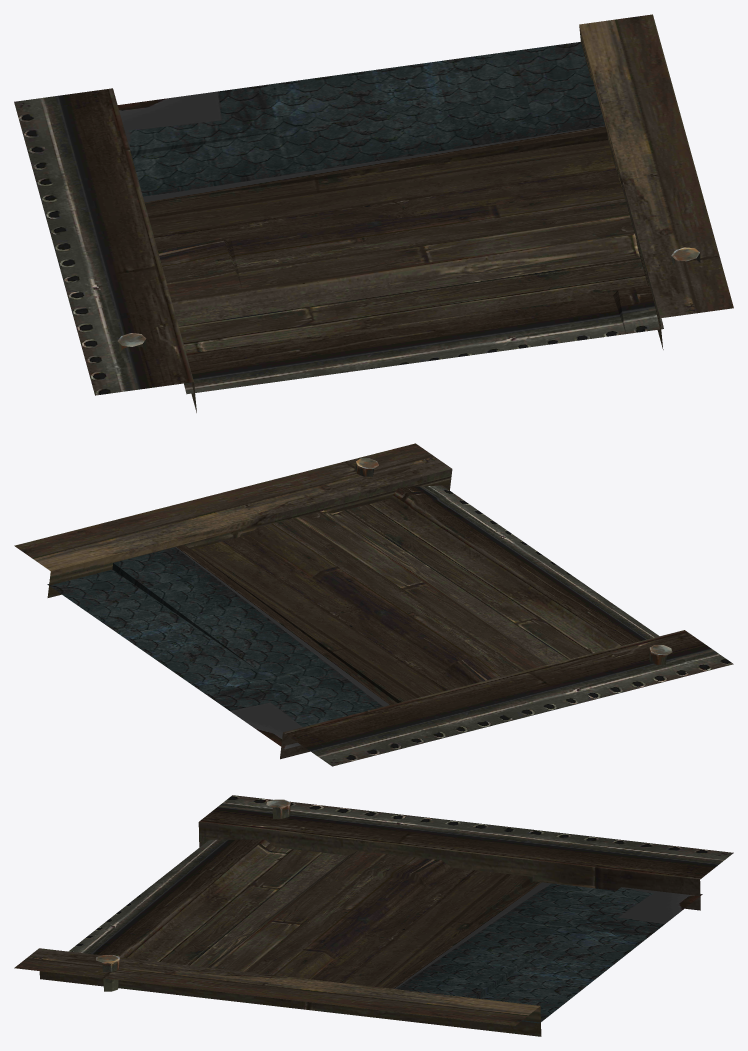
Rendered from T_Ship_09_Box.fbx.
The picture shows the model from 3 angles, top to bottom: view 1: azimuth 30°, elevation 25°; view 2: azimuth 150°, elevation 25°; view 3: azimuth 270°, elevation 25°; orthographic projection. The views are drawn at different scales.
Parts seen in each view (by area): view 1: T_Ship_09_Box; view 2: T_Ship_09_Box; view 3: T_Ship_09_Box.
Boxes of the visible parts, x1=… form: T_Ship_09_Box: x1=14, y1=14, x2=733, y2=412; T_Ship_09_Box: x1=14, y1=443, x2=733, y2=766; T_Ship_09_Box: x1=14, y1=795, x2=733, y2=1036.
Bounding box in the file's own units: 0.3593 × 0.0539 × 0.3556.
